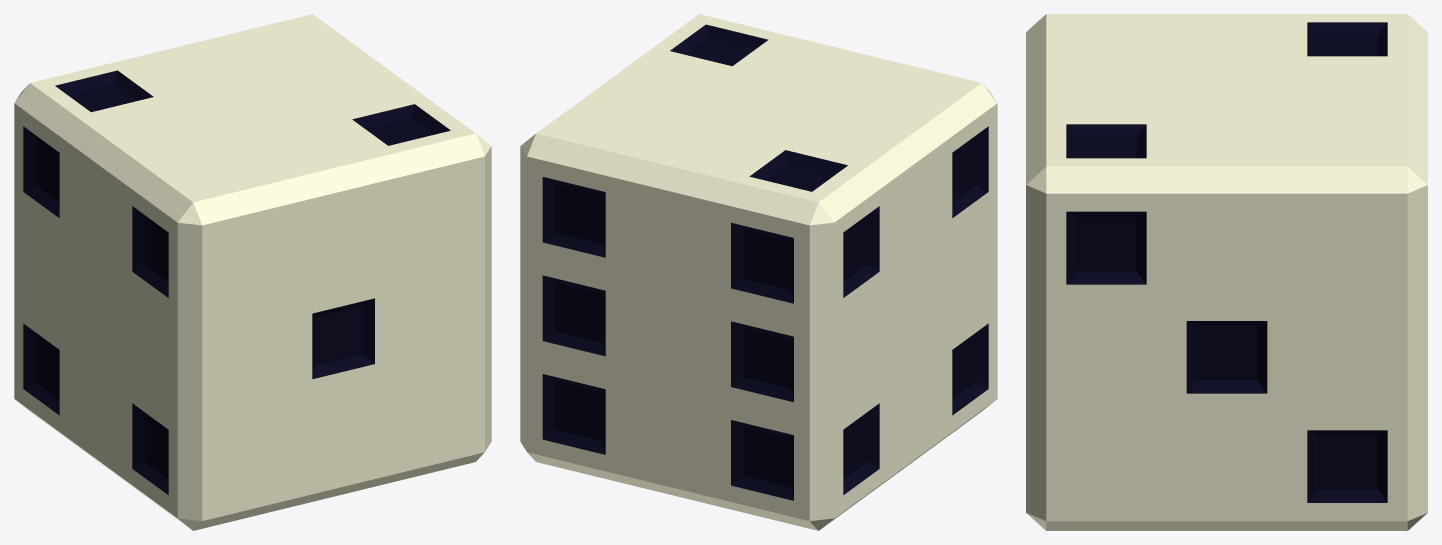
Rendered from Dice.fbx.
3 renders of one model, left to right at view 1: azimuth 30°, elevation 25°; view 2: azimuth 150°, elevation 25°; view 3: azimuth 270°, elevation 25°, orthographic. The views are drawn at different scales.
Visible parts, largest first — view 1: Dice; view 2: Dice; view 3: Dice.
Boxes of the visible parts, x1,y1,x2,y2 form: Dice: (14,14,491,530); Dice: (520,14,997,530); Dice: (1026,14,1427,530).
Size of the model in its own units: 200 by 200 by 200.
